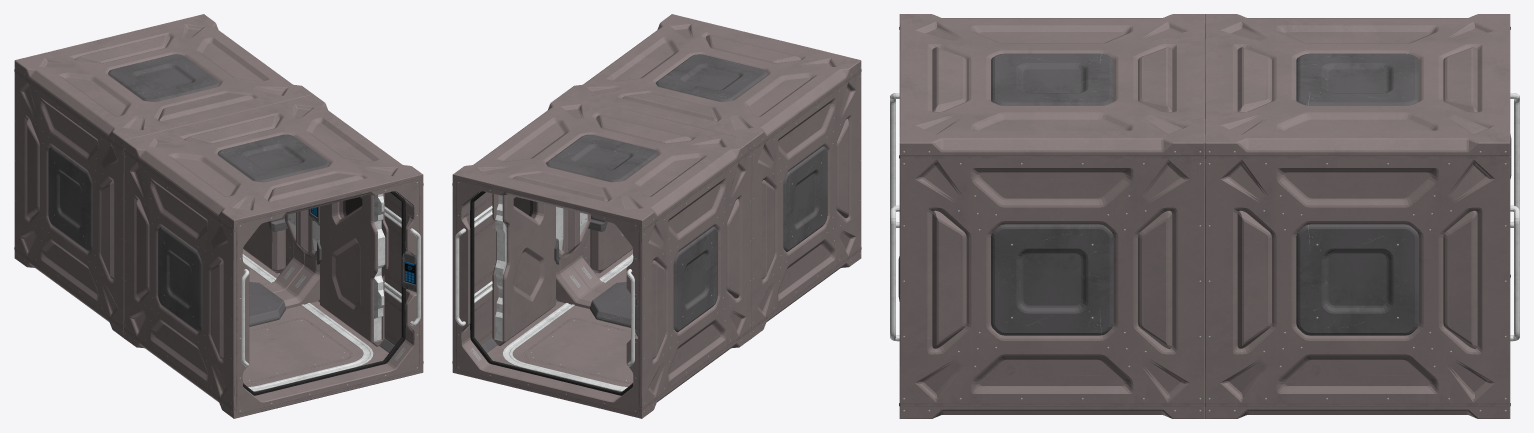
The model's file is Large_Grid_8390.obj.
3 renders of one model, left to right at view 1: azimuth 30°, elevation 25°; view 2: azimuth 150°, elevation 25°; view 3: azimuth 270°, elevation 25°, orthographic. The views are drawn at different scales.
Visible parts, largest first — view 1: Large_Grid_8390_part1, Large_Grid_8390_part2, Large_Grid_8390_part3, Large_Grid_8390_part6, Large_Grid_8390_part7, Large_Grid_8390_part8; view 2: Large_Grid_8390_part1, Large_Grid_8390_part2, Large_Grid_8390_part3, Large_Grid_8390_part6, Large_Grid_8390_part7, Large_Grid_8390_part8; view 3: Large_Grid_8390_part1, Large_Grid_8390_part2, Large_Grid_8390_part3, Large_Grid_8390_part8, Large_Grid_8390_part4.
Part boxes in pixels (bbox=[...]): Large_Grid_8390_part1: bbox=[14, 14, 423, 418]; Large_Grid_8390_part2: bbox=[48, 54, 416, 352]; Large_Grid_8390_part3: bbox=[14, 69, 423, 415]; Large_Grid_8390_part6: bbox=[242, 193, 401, 391]; Large_Grid_8390_part7: bbox=[243, 191, 405, 395]; Large_Grid_8390_part8: bbox=[241, 228, 420, 366]; Large_Grid_8390_part1: bbox=[452, 14, 861, 418]; Large_Grid_8390_part2: bbox=[481, 54, 827, 352]; Large_Grid_8390_part3: bbox=[452, 69, 861, 415]; Large_Grid_8390_part6: bbox=[474, 195, 633, 391]; Large_Grid_8390_part7: bbox=[470, 191, 632, 395]; Large_Grid_8390_part8: bbox=[455, 228, 634, 366]; Large_Grid_8390_part1: bbox=[899, 14, 1510, 418]; Large_Grid_8390_part2: bbox=[898, 53, 1511, 335]; Large_Grid_8390_part3: bbox=[899, 27, 1510, 406]; Large_Grid_8390_part8: bbox=[890, 93, 1519, 341]; Large_Grid_8390_part4: bbox=[899, 150, 1506, 411].
Size of the model in its own units: 2.53 by 2.53 by 5.16.
Materials: 10 (9 with a texture image).
